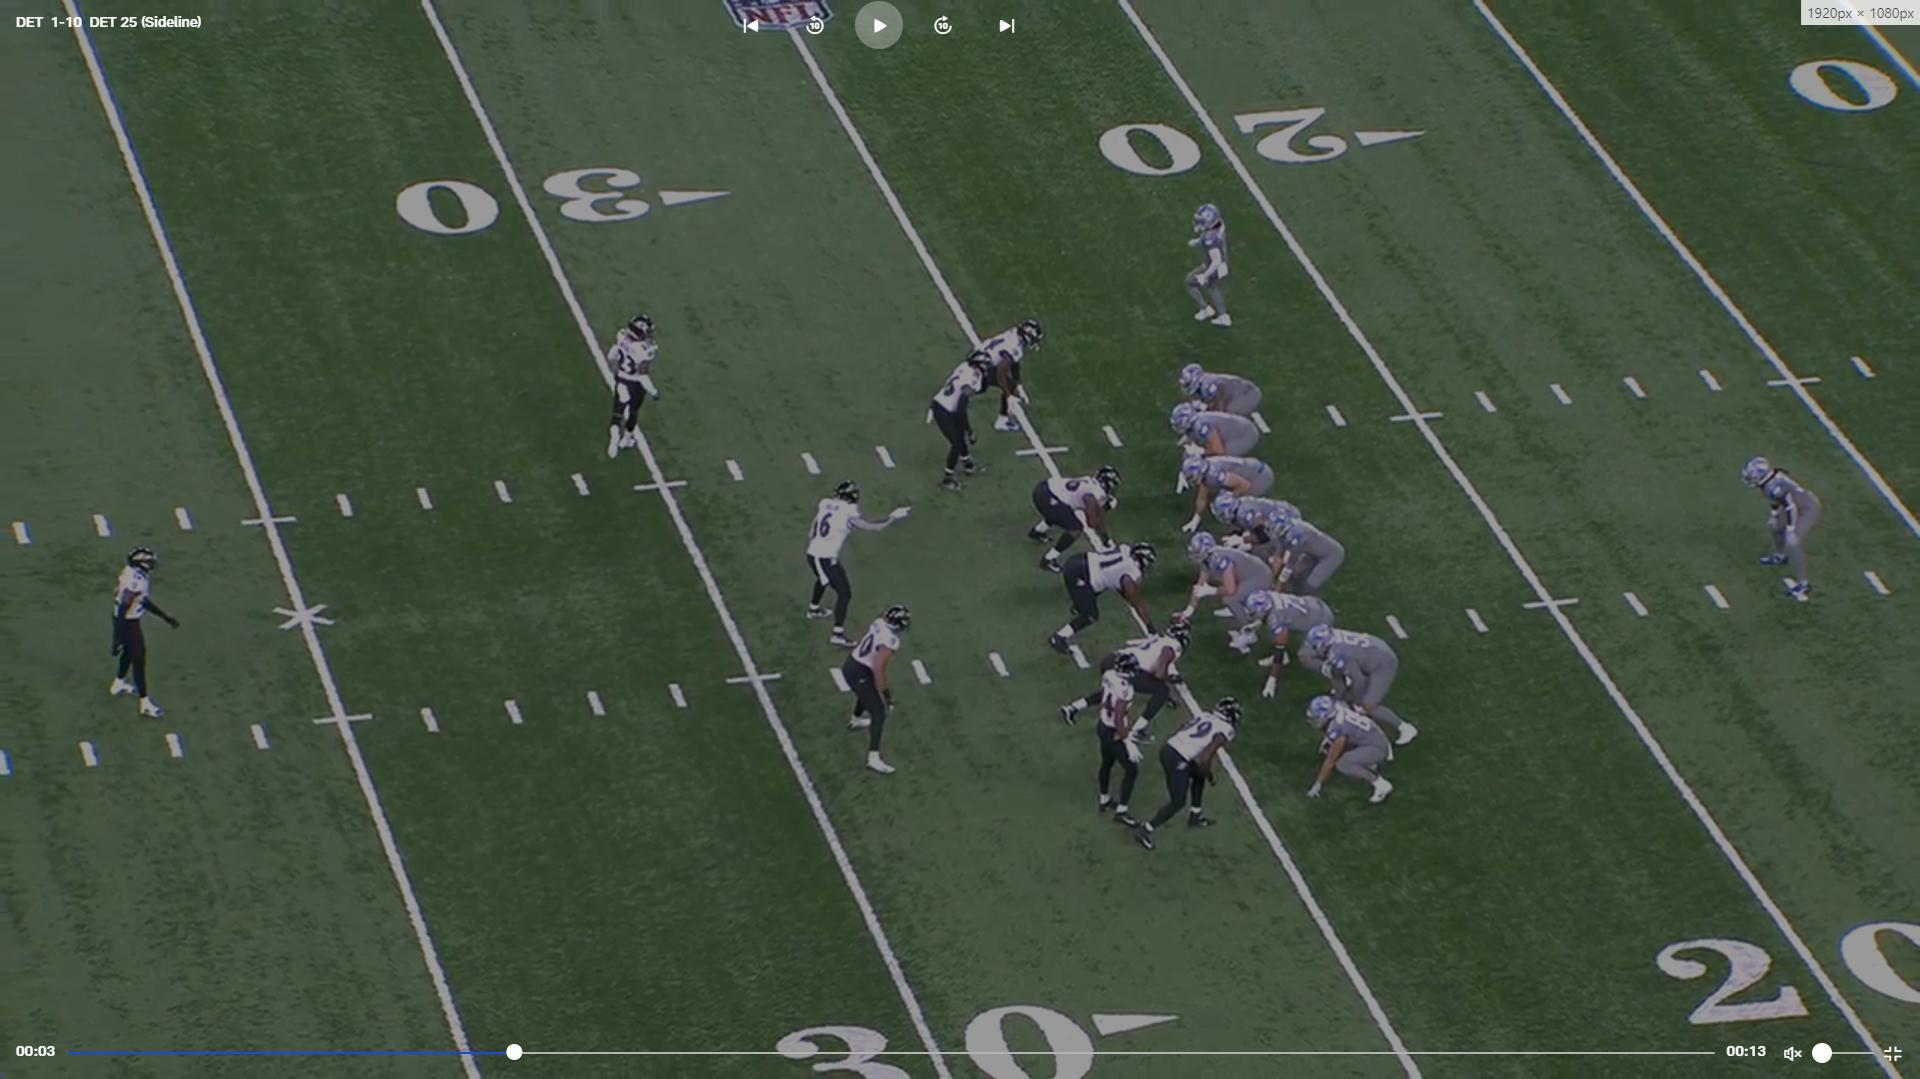player: (1145, 697, 1246, 850), (1304, 619, 1415, 747), (1059, 626, 1188, 736), (1045, 541, 1156, 667), (1740, 454, 1828, 602), (1083, 648, 1152, 832), (100, 540, 168, 723), (842, 598, 911, 777), (1308, 696, 1407, 813), (805, 474, 871, 643), (1028, 463, 1125, 574), (1185, 537, 1278, 649), (1243, 583, 1332, 696), (927, 345, 991, 499), (1165, 405, 1262, 499), (606, 316, 667, 464), (977, 315, 1045, 439), (1183, 449, 1275, 534), (1188, 202, 1244, 337), (1264, 507, 1344, 599), (1177, 363, 1274, 433), (1212, 492, 1300, 556)
